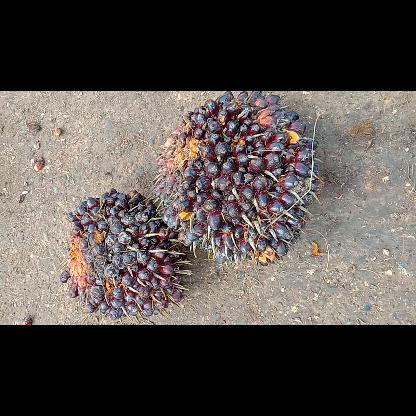Kurang masak: (150, 91, 326, 269), (57, 186, 191, 319)
